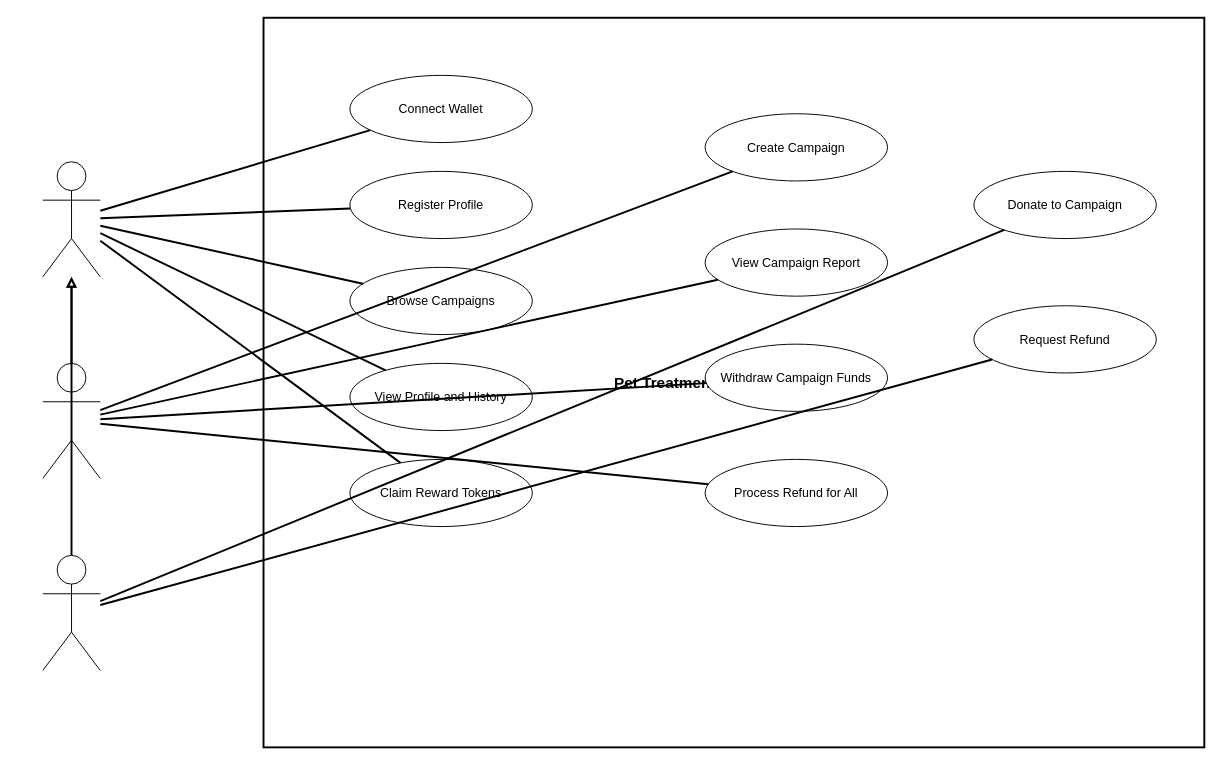
The diagram is 1222 pixels wide and 764 high, and some of its shapes have lost their labels. The shapes that lost their labels are listed below. From the top down, each one's centre as x and y in pixels, then its label:
At point (71, 219): "User".
At point (71, 420): "Campaign Creator".
At point (71, 612): "Donor".
